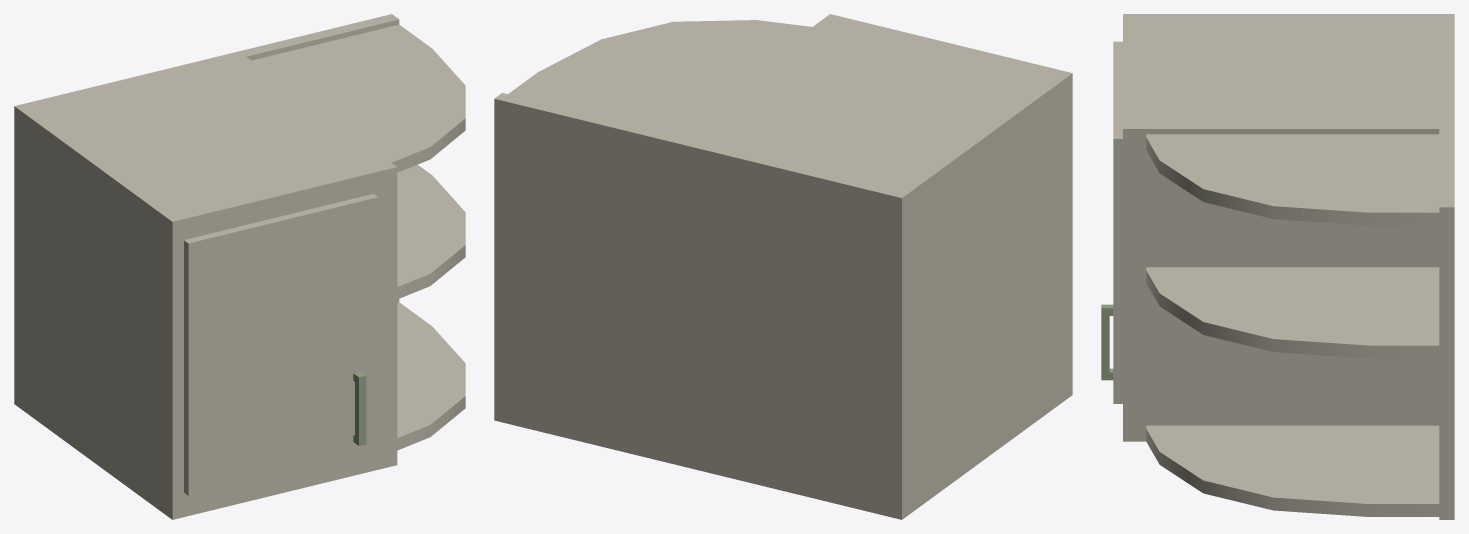
Rendered from KitchenCounter_CornerEdgeTop_01.fbx.
3 renders of one model, left to right at view 1: azimuth 30°, elevation 25°; view 2: azimuth 150°, elevation 25°; view 3: azimuth 270°, elevation 25°, orthographic. The views are drawn at different scales.
Visible parts, largest first — view 1: KitchenCounter_CornerEdgeTop_01, KitchenCounter_CornerEdgeTop_01_Door; view 2: KitchenCounter_CornerEdgeTop_01; view 3: KitchenCounter_CornerEdgeTop_01, KitchenCounter_CornerEdgeTop_01_Door.
Boxes of the visible parts, bbox=[...] form: KitchenCounter_CornerEdgeTop_01: bbox=[14, 14, 465, 519]; KitchenCounter_CornerEdgeTop_01_Door: bbox=[184, 194, 378, 495]; KitchenCounter_CornerEdgeTop_01: bbox=[494, 14, 1072, 519]; KitchenCounter_CornerEdgeTop_01: bbox=[1123, 14, 1454, 519]; KitchenCounter_CornerEdgeTop_01_Door: bbox=[1101, 41, 1122, 403].
Bounding box in the file's own units: 0.9106 × 0.6866 × 0.7037.
